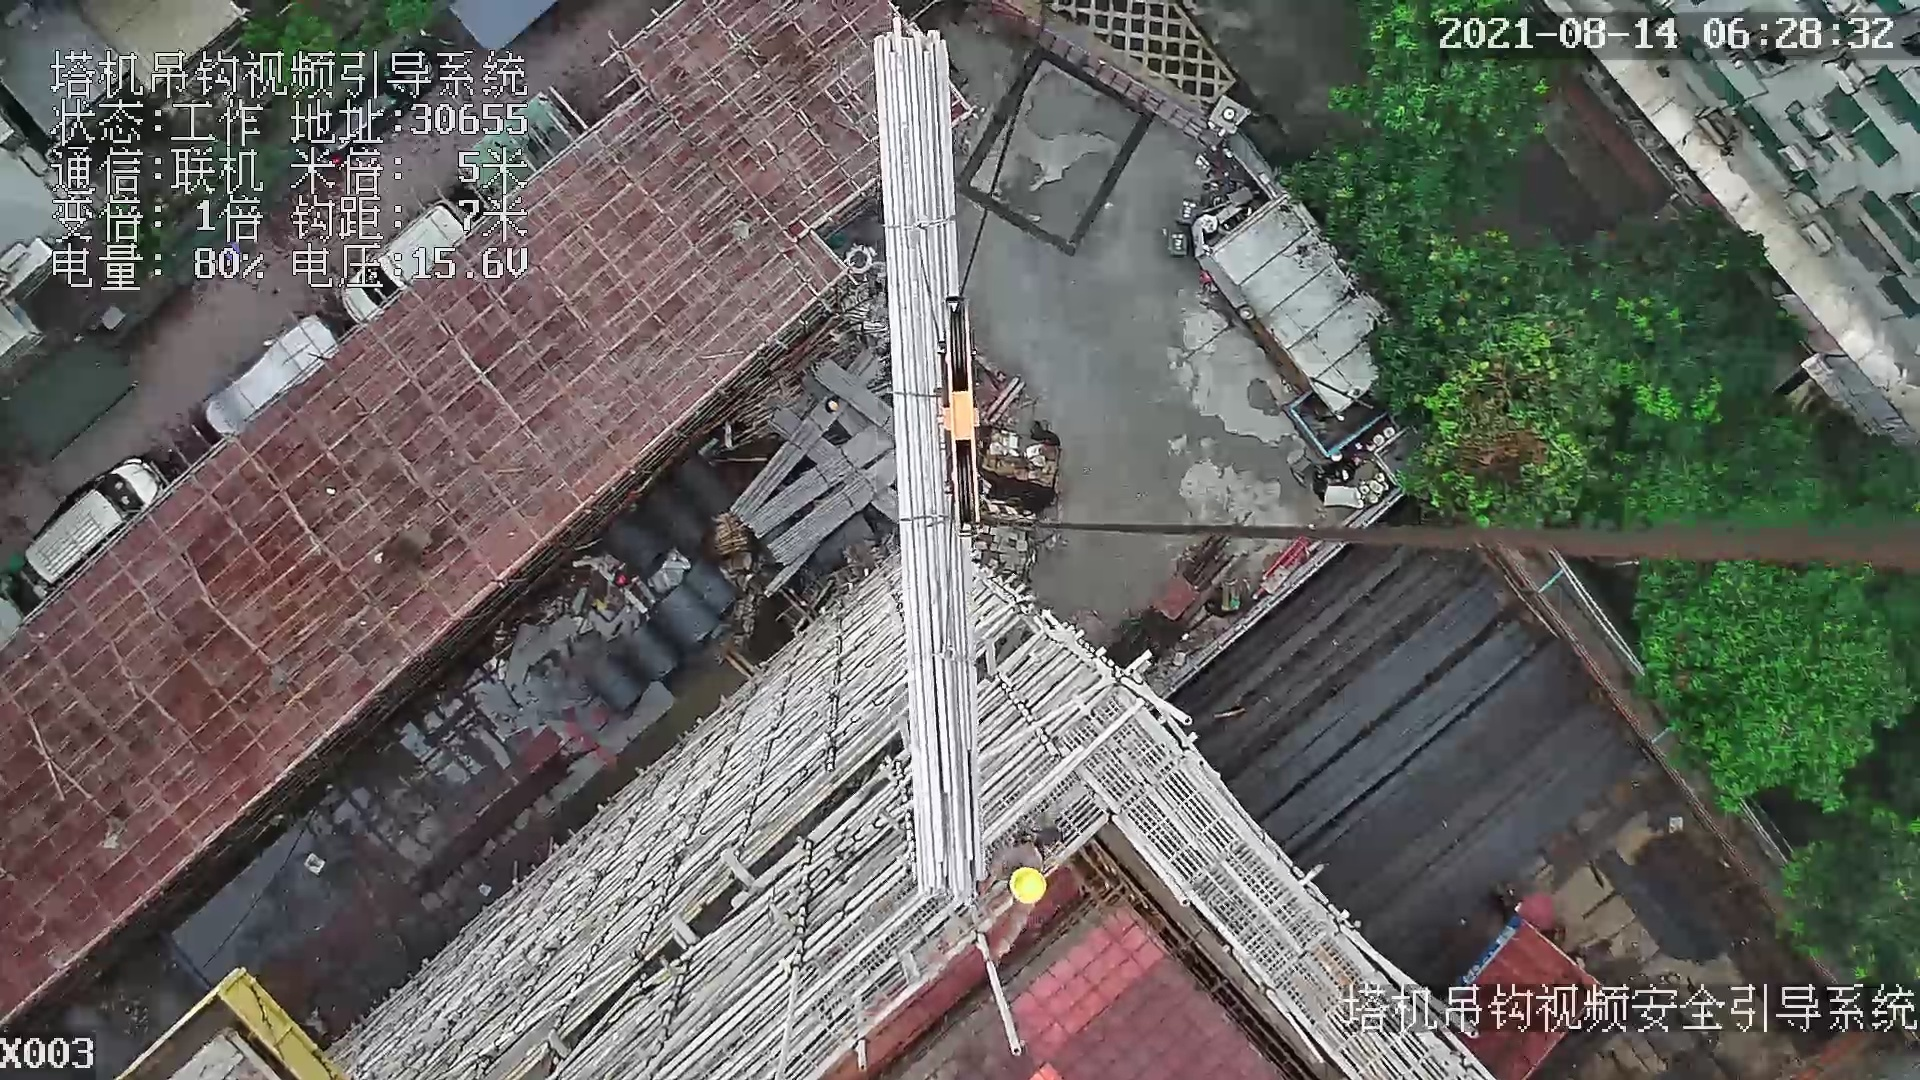helmet: (1006, 864, 1052, 910)
hook: (940, 296, 988, 534)
person: (981, 827, 1060, 907)
